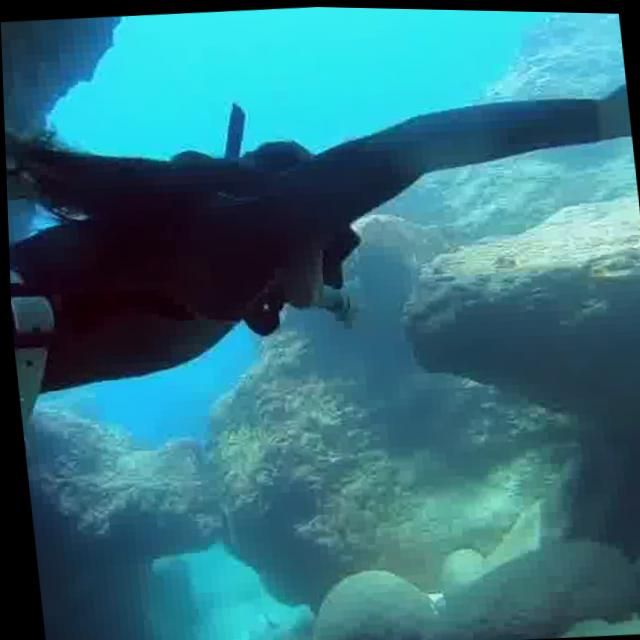human: (1, 34, 640, 538)
